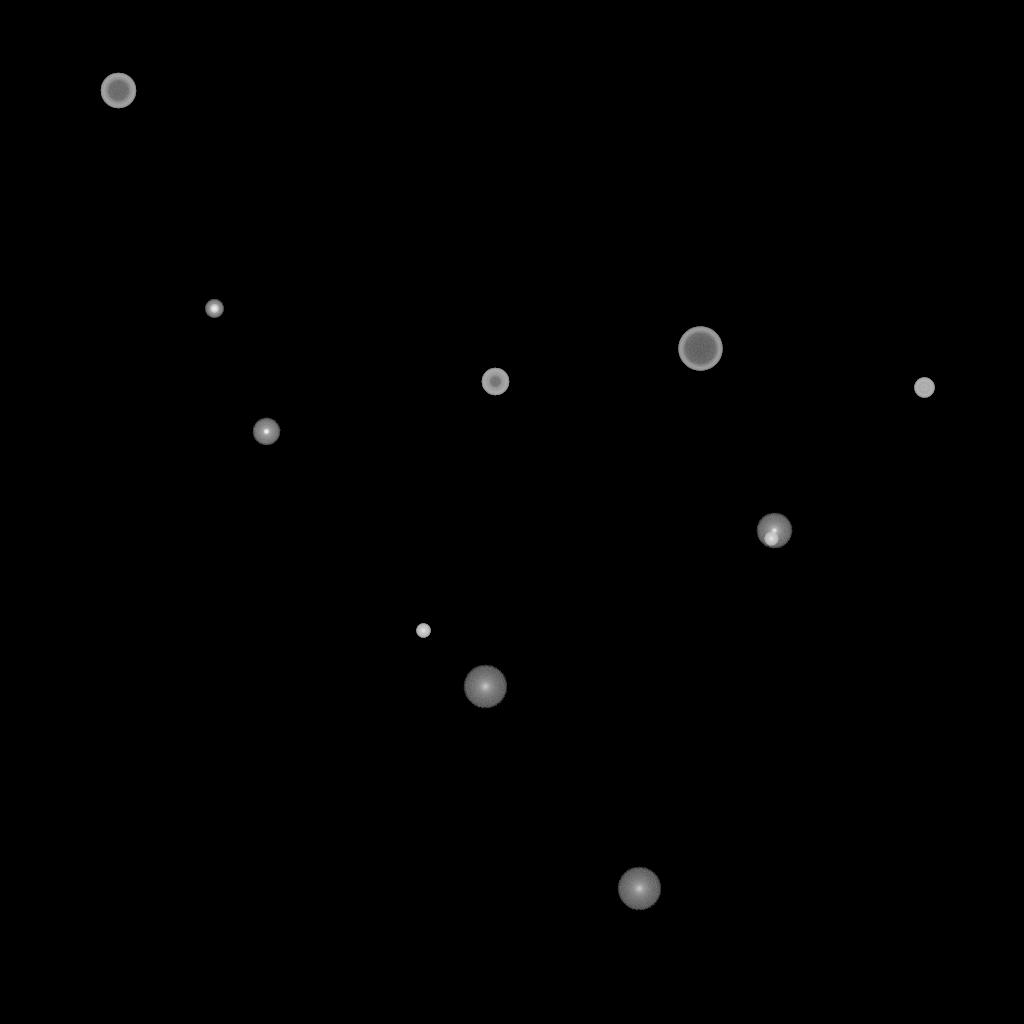depth:-10: (252, 418, 280, 446)
depth:-20: (205, 300, 223, 318)
depth:-30: (416, 624, 430, 638), (764, 532, 778, 546)
depth:-40: (914, 378, 934, 398)
depth:-50: (481, 368, 509, 396)
depth:-60: (100, 73, 136, 109)
depth:-70: (678, 327, 722, 371)
depth:0: (756, 513, 792, 549)
depth:10: (617, 867, 661, 911), (463, 665, 507, 709)
